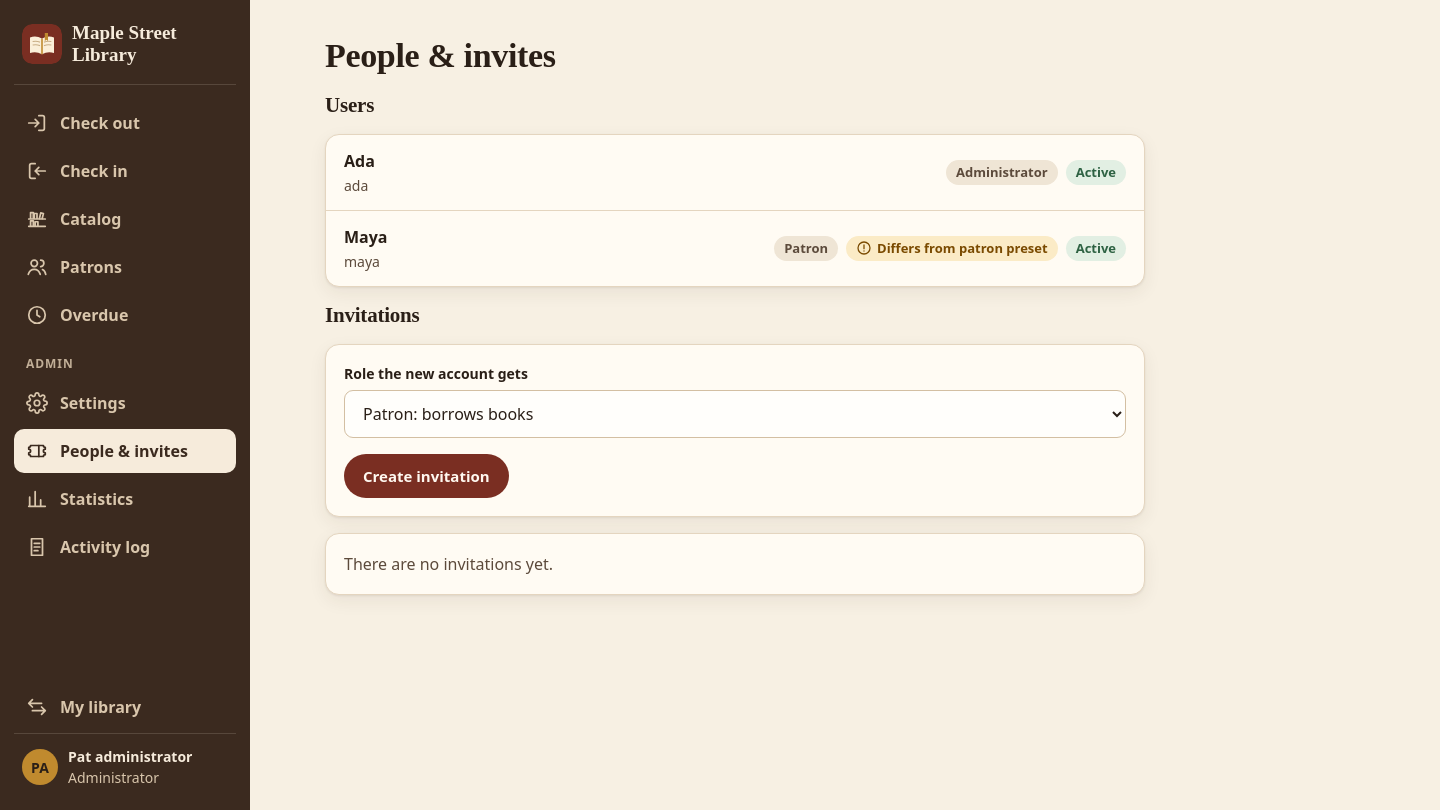
it: ADMIN-2 Manage users › Per-user override: the list and the user's page mark a user who differs from the role's preset
Expected: the text "Differs from patron preset" is shown, [846,236,1058,261]
Click the link "Maya maya Patron Differs from patron preset Active": (366, 237) [326,211,1144,286]
(page scrolled)
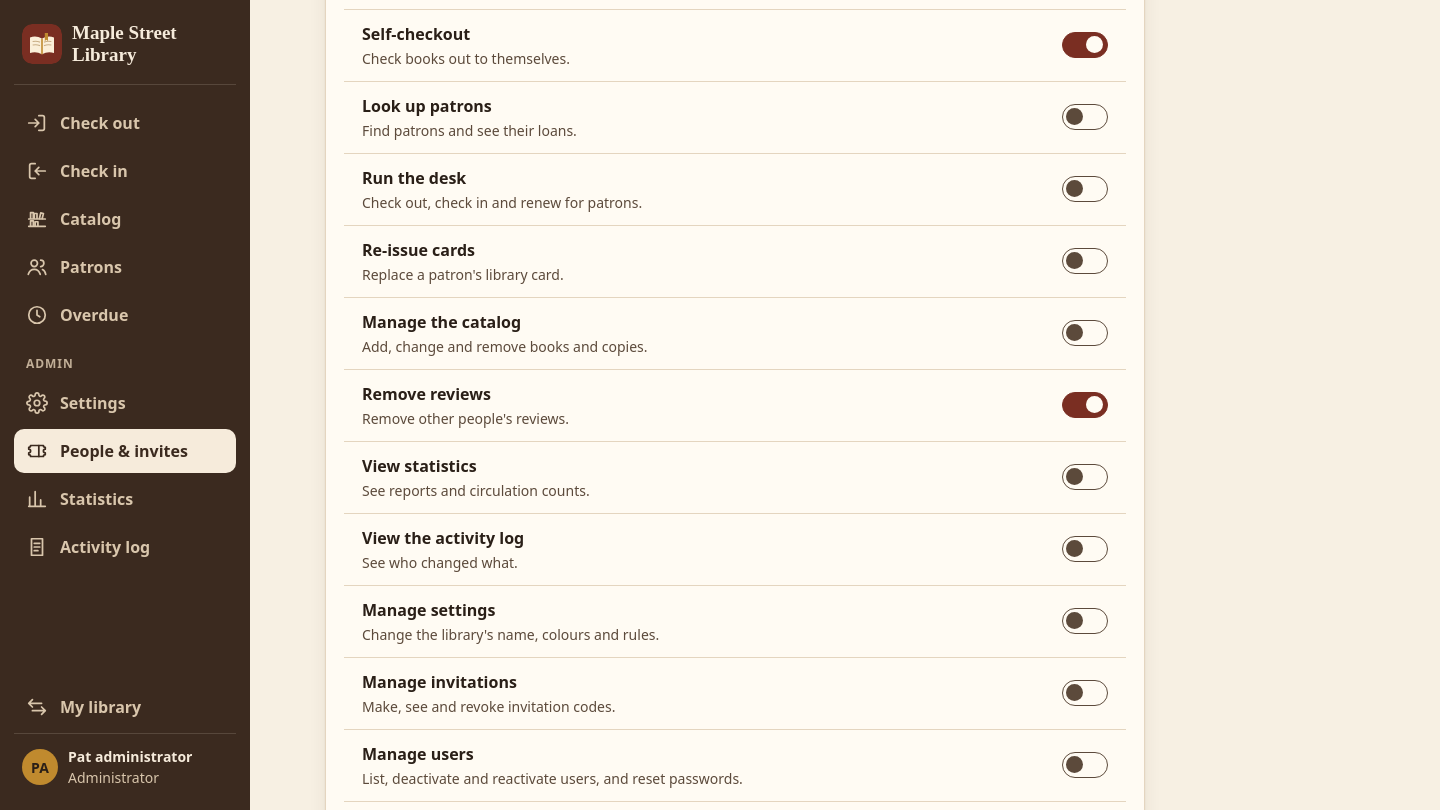
Now the switch labelled "Remove reviews Remove other people's reviews." is checked, box [1062,392,1108,418]
